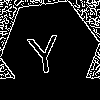Y: (25, 25, 63, 75)
